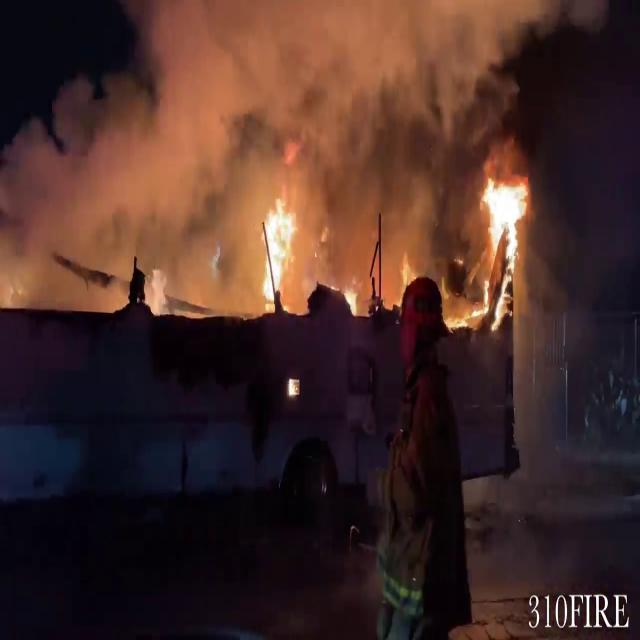Fire: (473, 171, 533, 329), (252, 192, 304, 312)
Smoke: (11, 1, 615, 287)
